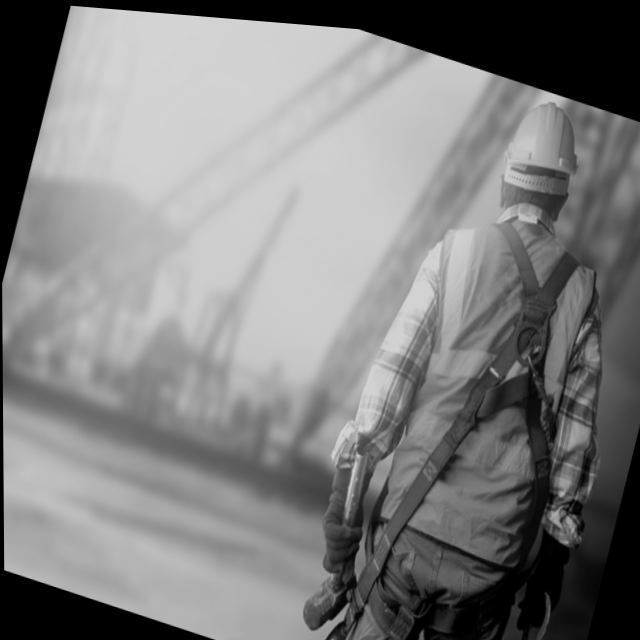safety belt: (383, 201, 592, 636)
